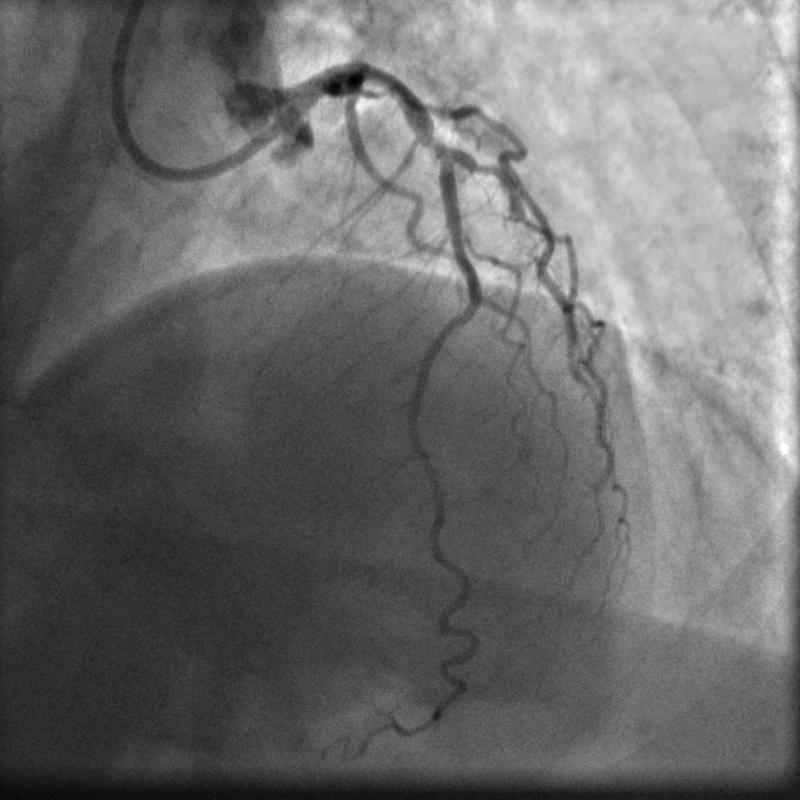Stenosis: (414, 129, 451, 153)
